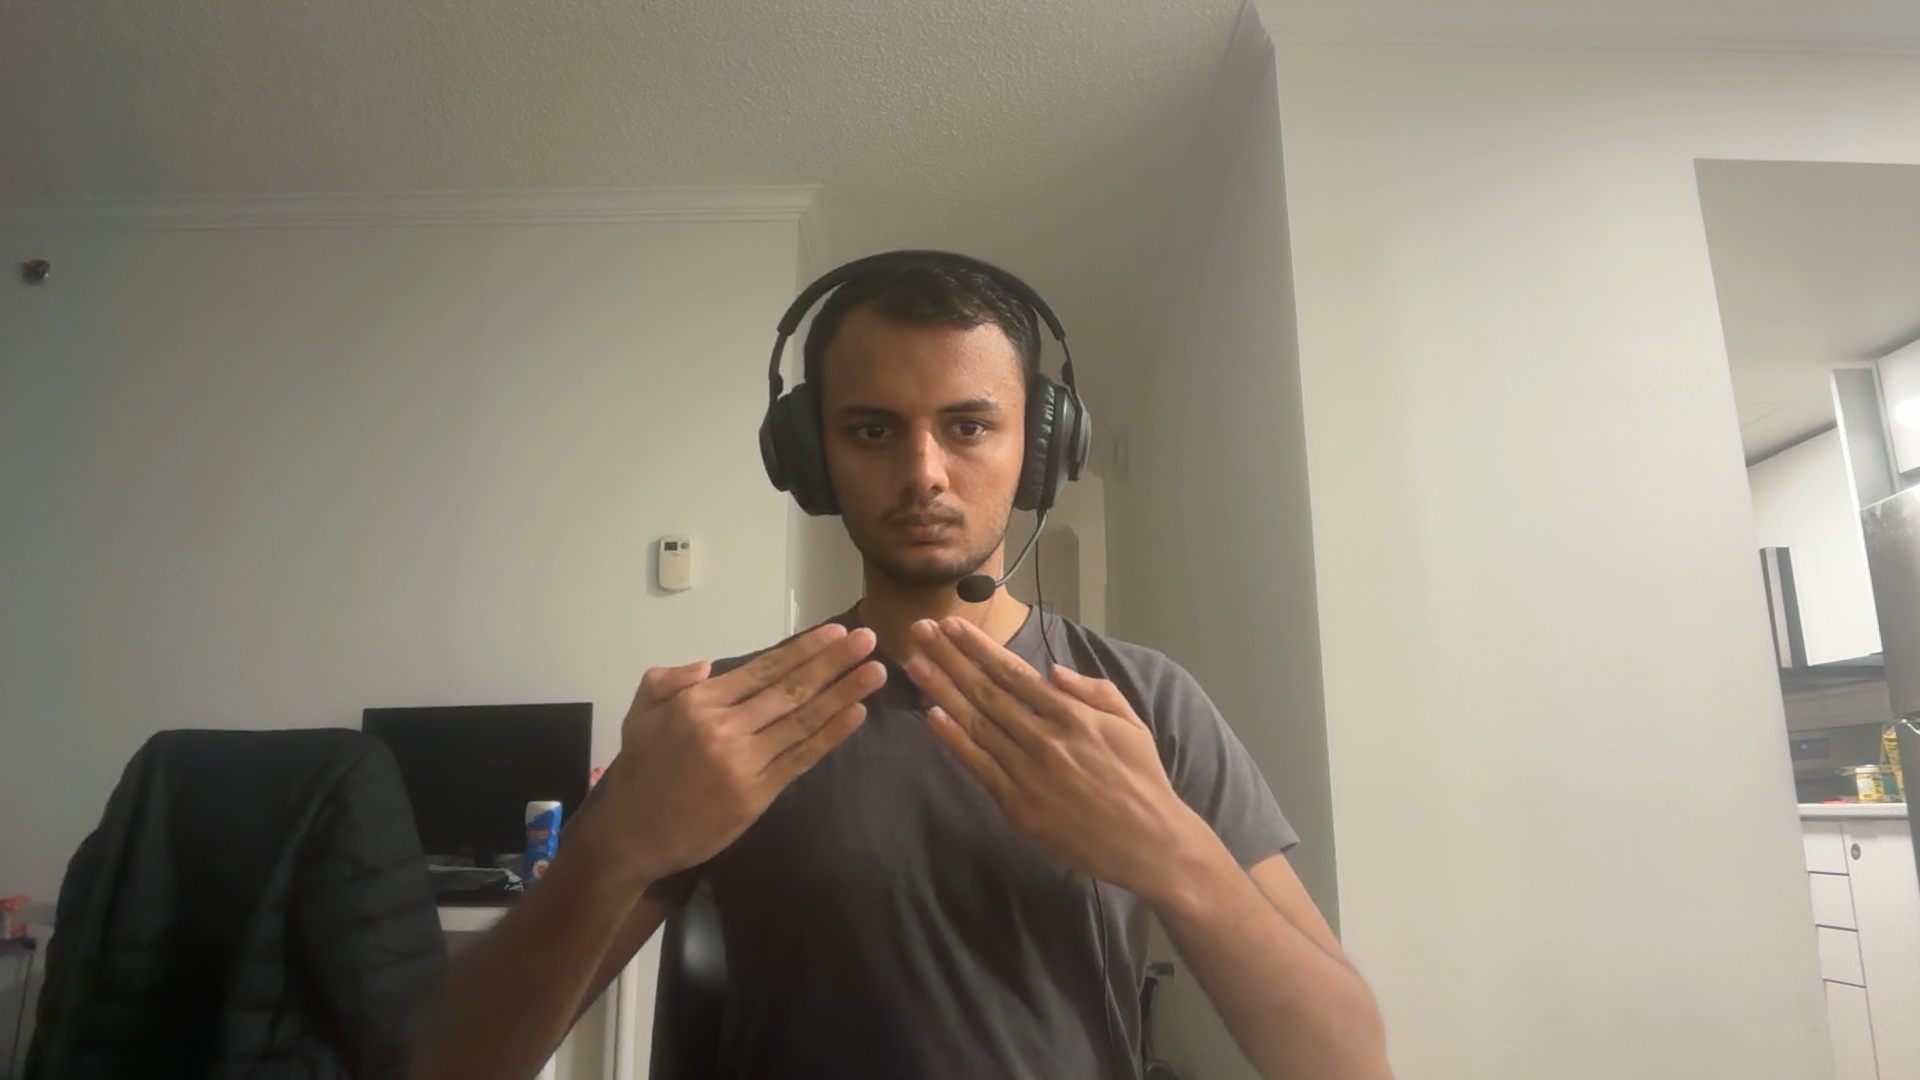thankyou: (608, 616, 1201, 893)
